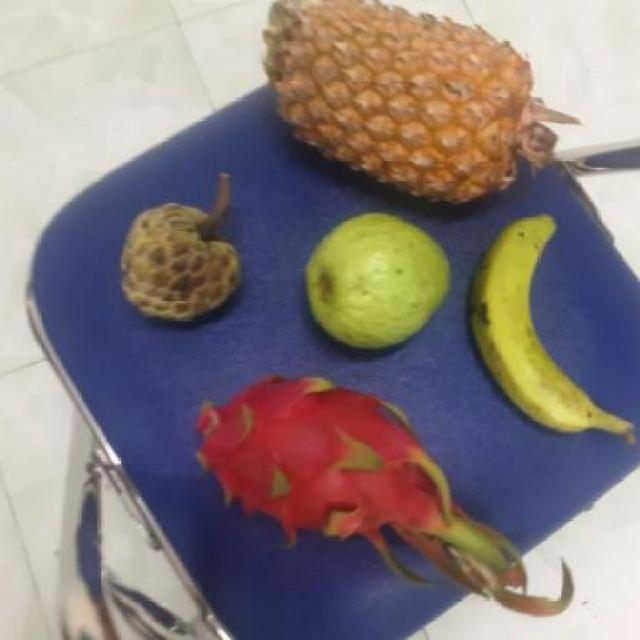banana: (464, 214, 608, 438)
dragon fruit: (183, 373, 448, 552)
guava: (295, 216, 450, 350)
pineapple: (265, 0, 529, 197)
sugar apple: (114, 200, 238, 322)
